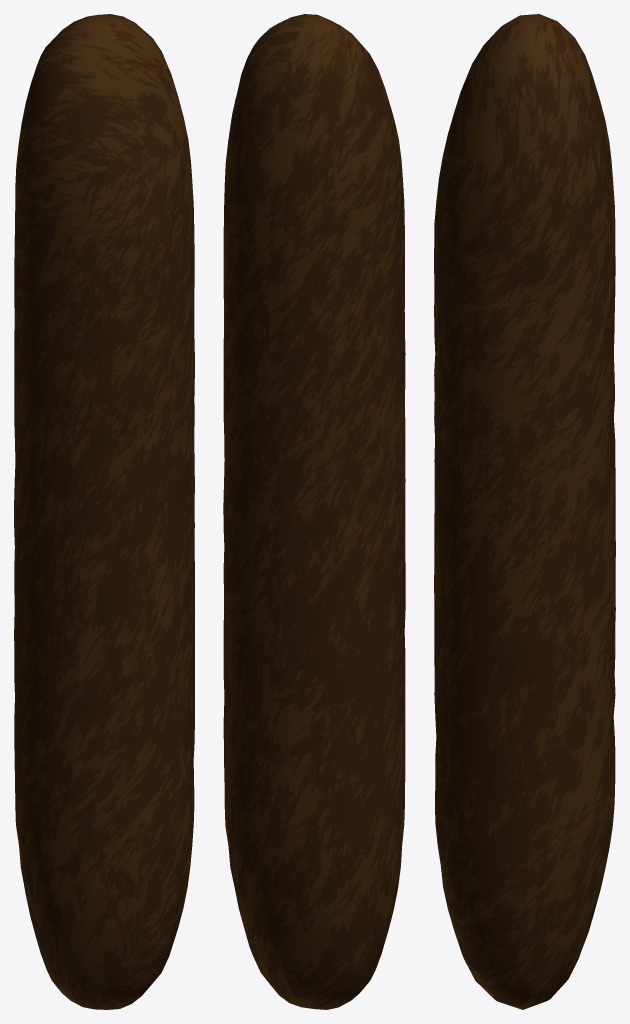
Rendered from Post.fbx.
3 views of the same model, side by side, from view 1: azimuth 30°, elevation 25°; view 2: azimuth 150°, elevation 25°; view 3: azimuth 270°, elevation 25° (orthographic).
Visible parts, largest first — view 1: PM3D_Cylinder3D; view 2: PM3D_Cylinder3D; view 3: PM3D_Cylinder3D.
Boxes of the visible parts, x1=… form: PM3D_Cylinder3D: x1=14, y1=14, x2=194, y2=1009; PM3D_Cylinder3D: x1=223, y1=14, x2=405, y2=1009; PM3D_Cylinder3D: x1=434, y1=14, x2=615, y2=1009.
Bounding box in the file's own units: 0.632 × 3.8 × 0.634.
